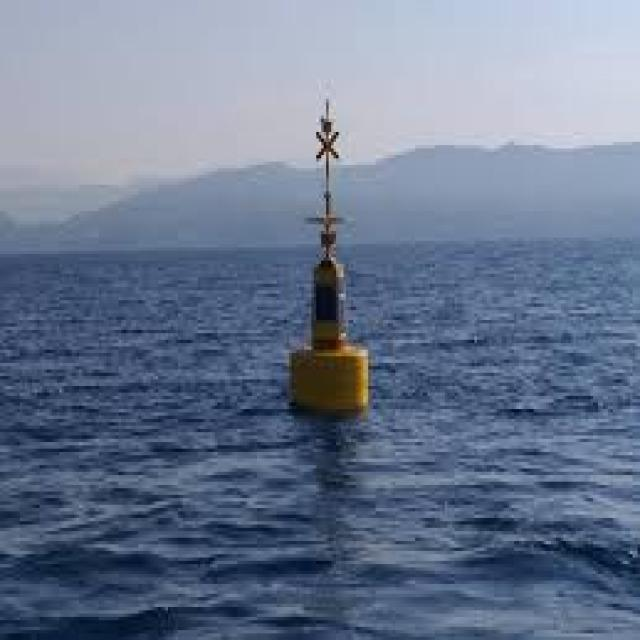buoy: (274, 74, 383, 438)
